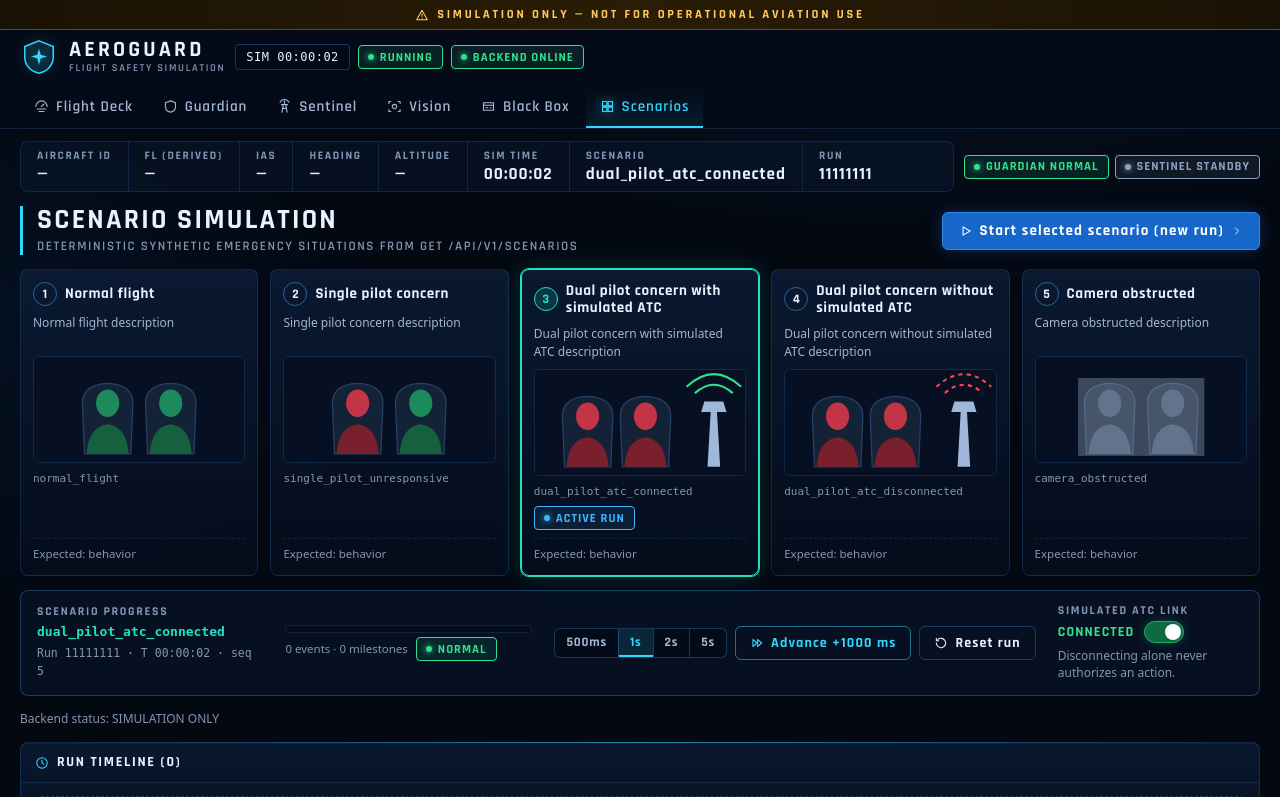
Test: ISSUE 2 REGRESSION: Out-of-order refreshes and state consistency › ignores in-flight refresh for previous scenario after scenario switch
Check: the text "11111111" is shown, box [819,164,873,183]
# User selects normal_flight radio and starts new scenario
Click the radio button showing "normal_flight" at coordinates (139, 422), box [20,269,258,576]
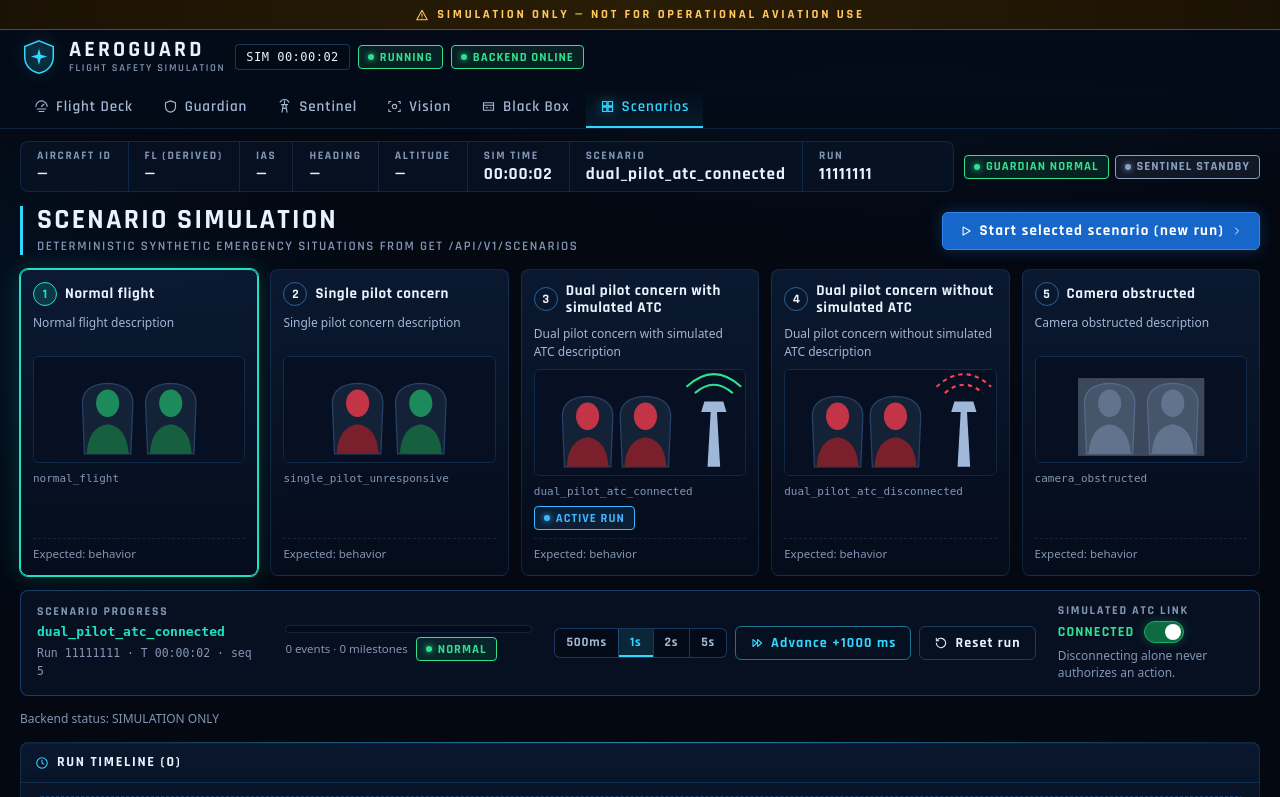
Click the button "Start selected scenario (new run)" at coordinates (1101, 231), box [942,212,1260,250]
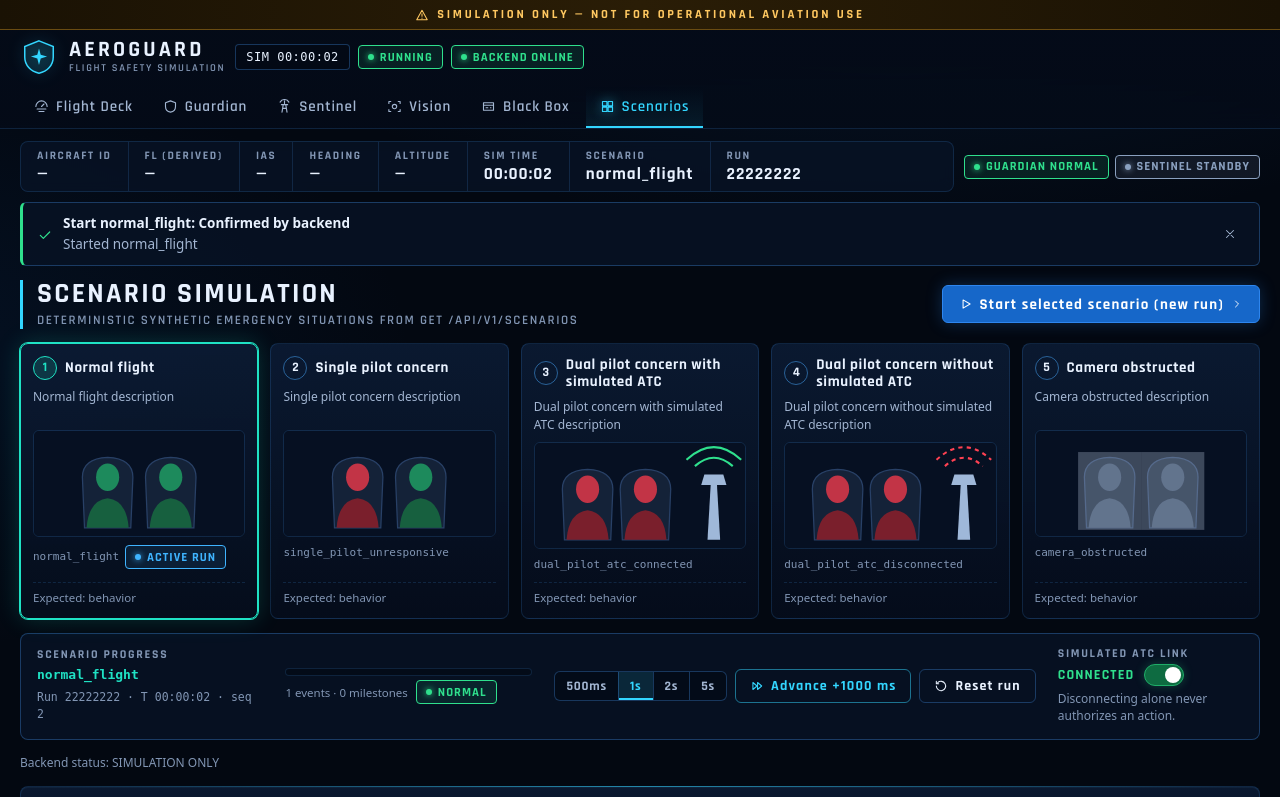
Check: the text "22222222" is shown, box [726,164,802,183]
